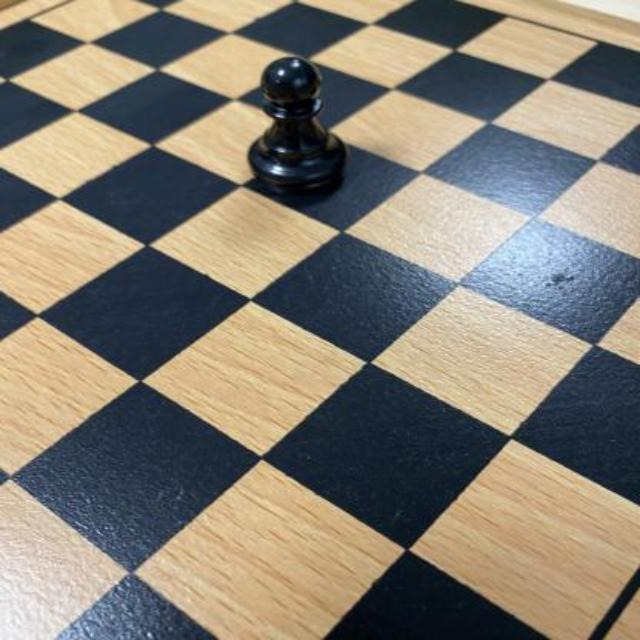black-pawn: (244, 55, 351, 195)
